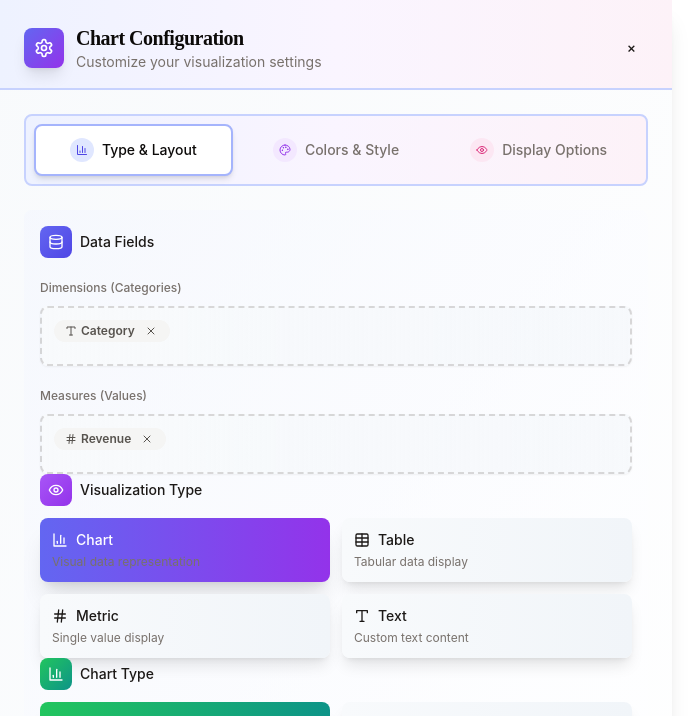
Test case: ChartConfigPanel › shows preview of current configuration
// Switch to display options tab to see preview
Click the tab "Display Options": [539, 150] box top-left (439, 126), bottom-right (638, 174)
(page scrolled)
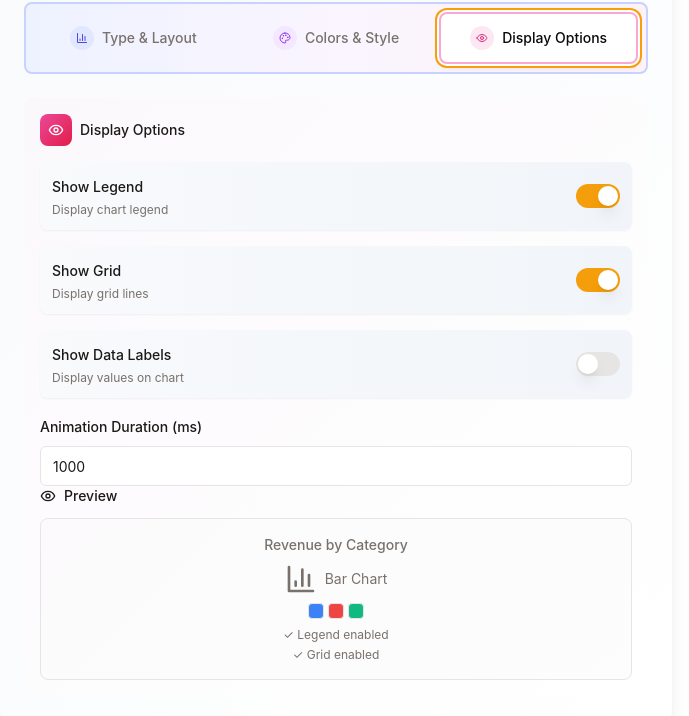
Check: the text "Preview" is shown, box top-left (40, 487), bottom-right (117, 504)
Check: the text "Revenue by Category" is shown, box top-left (264, 536), bottom-right (408, 553)
Check: the text "✓ Legend enabled" is shown, box top-left (283, 627), bottom-right (389, 642)
